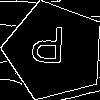P: (29, 25, 66, 73)
